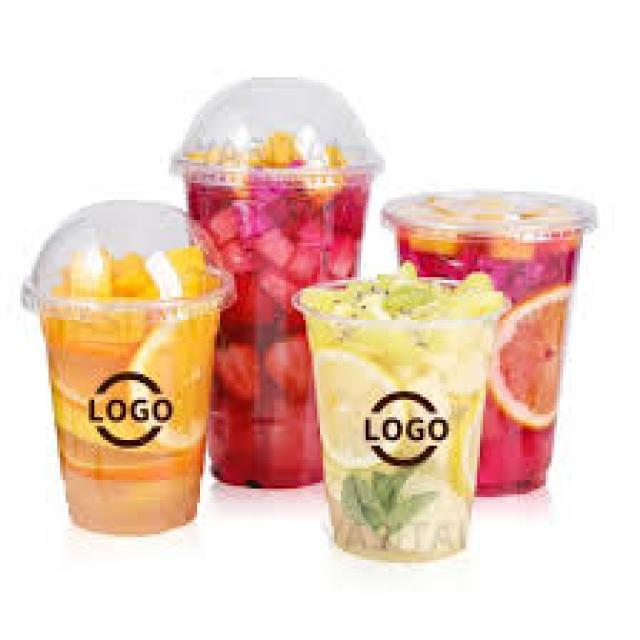cup: (382, 191, 595, 495), (294, 272, 509, 559), (189, 165, 370, 487), (44, 304, 219, 533)
